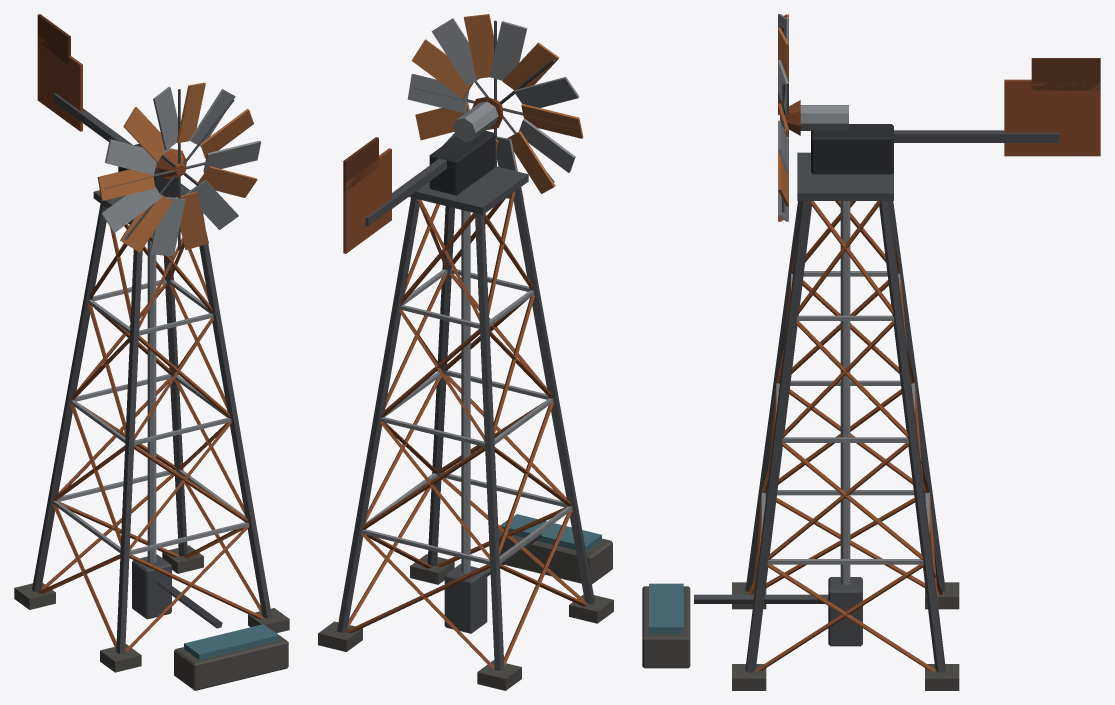
The model's file is lmk_farm_windmill.fbx.
The picture shows the model from 3 angles, left to right: view 1: azimuth 30°, elevation 25°; view 2: azimuth 150°, elevation 25°; view 3: azimuth 270°, elevation 25°; orthographic projection. The views are drawn at different scales.
Parts seen in each view (by area): view 1: lmk_farm_windmill; view 2: lmk_farm_windmill; view 3: lmk_farm_windmill.
Part boxes in pixels (bbox=[...]): lmk_farm_windmill: bbox=[14, 14, 289, 690]; lmk_farm_windmill: bbox=[318, 14, 613, 690]; lmk_farm_windmill: bbox=[642, 14, 1100, 690].
Bounding box in the file's own units: 3.3 × 9.91 × 6.65.
